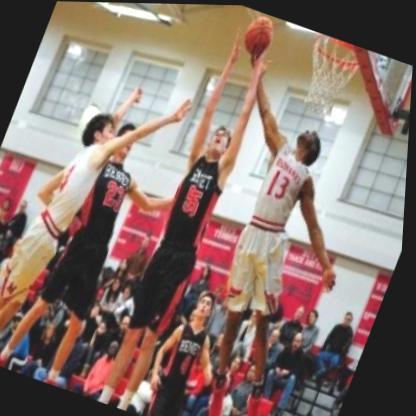basketball: (234, 8, 285, 64)
rim: (291, 33, 375, 120)
